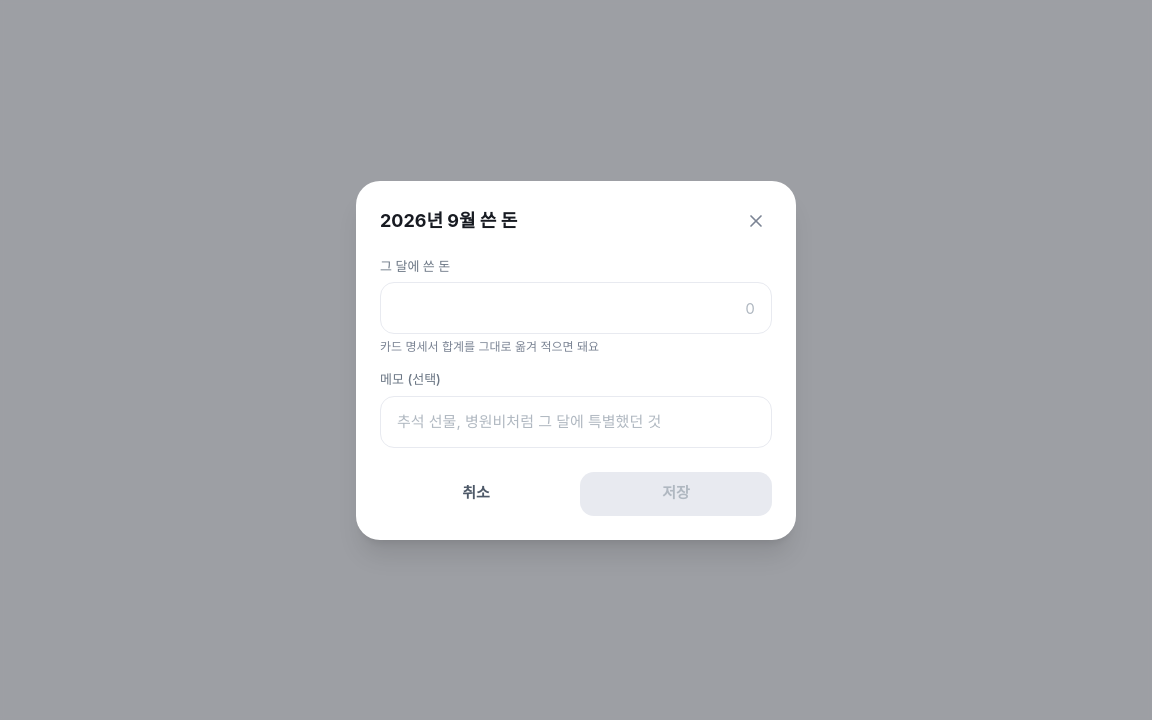
Test: 실패 › 알리고 닫지 않는다
Type "480000" into the field labelled "그 달에 쓴 돈". click: (576, 308)
box: [380,282,772,334]
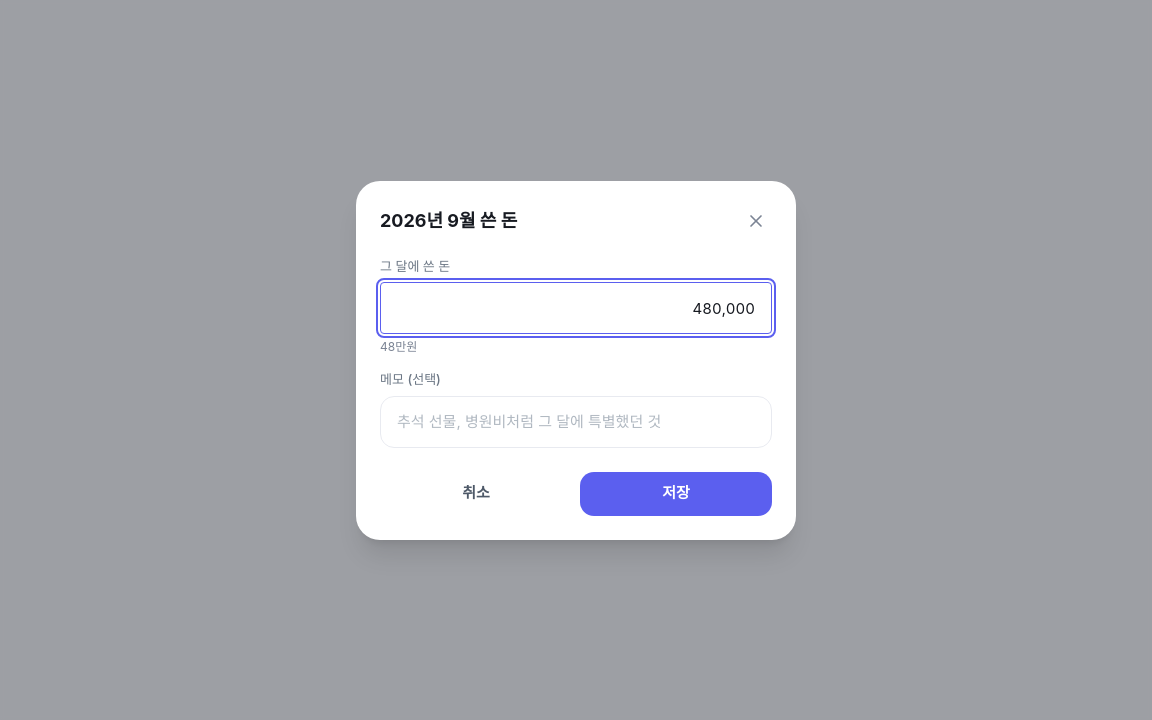
Click the button "저장". click: (676, 494)
box: [580,472,772,516]
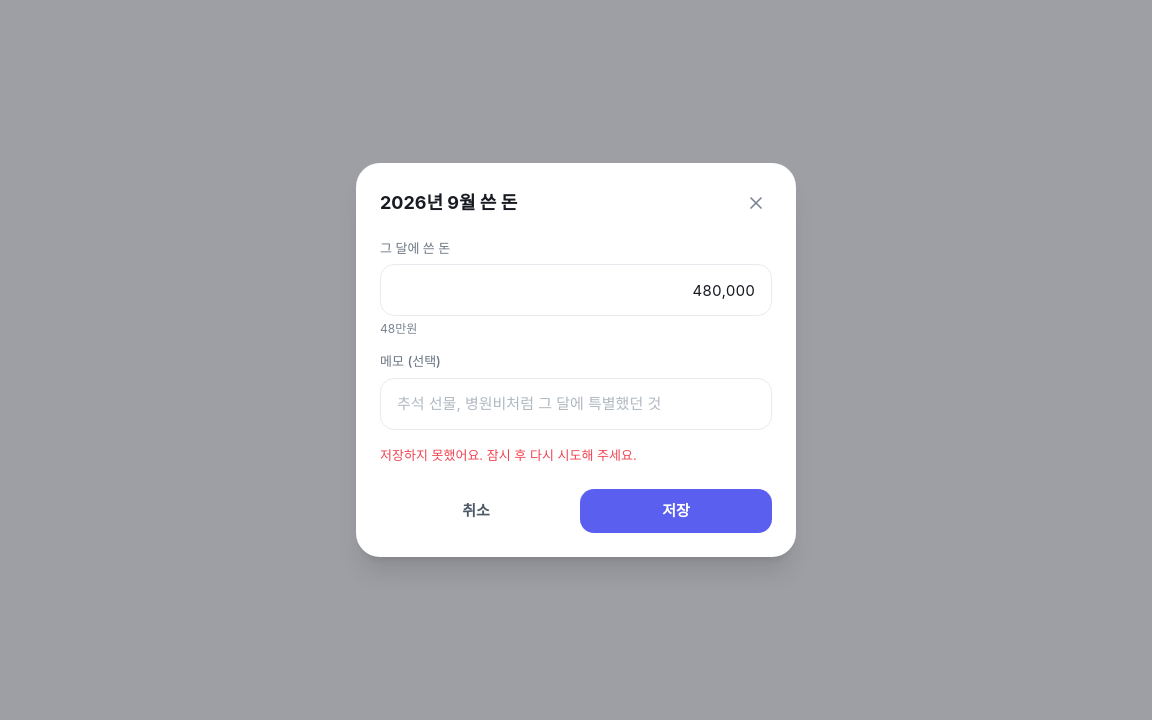
expect the field labelled "그 달에 쓴 돈" is shown: met, box [380,264,772,316]
expect the message shows "저장하지 못했어요": met, box [380,447,637,463]
